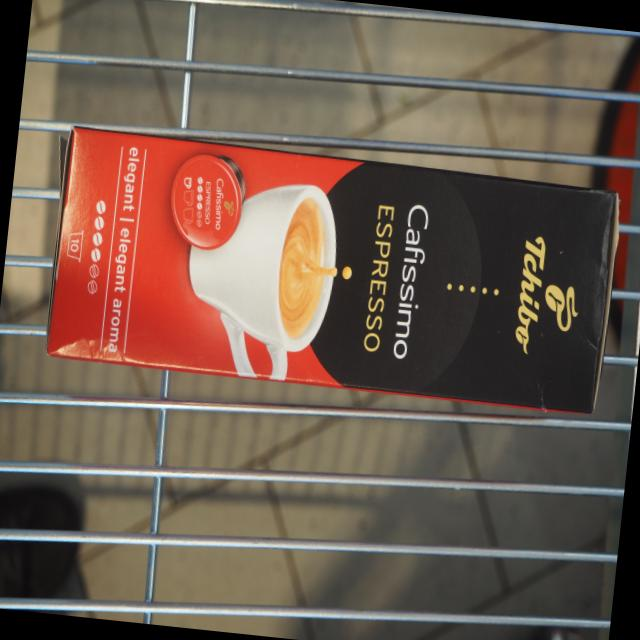Simo Es Elegant: (42, 120, 627, 421)
